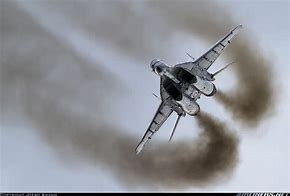smoke: (216, 62, 276, 125), (192, 114, 240, 178)
